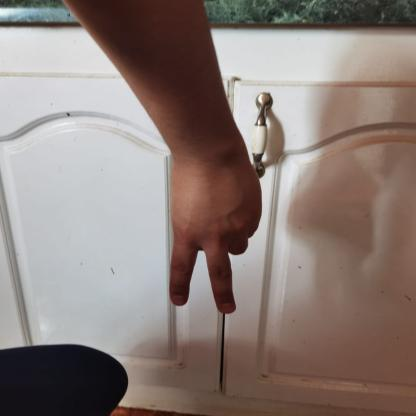N: (138, 131, 276, 320)
